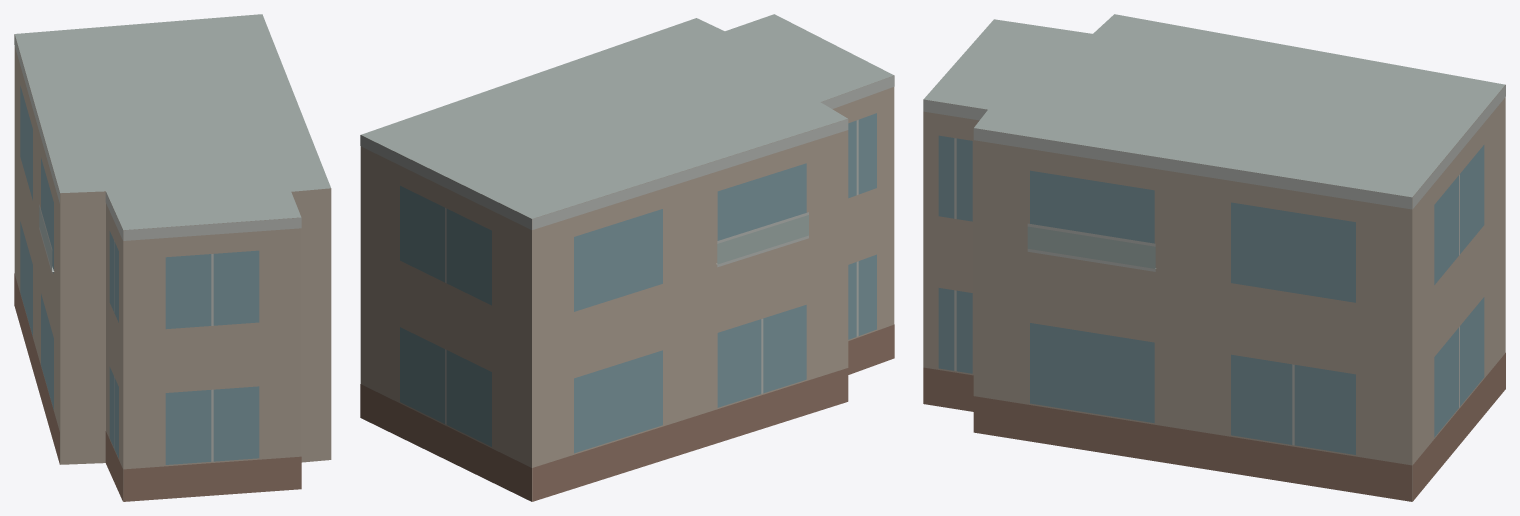
Rendered from survey-upis-32933104.glb.
3 views of the same model, side by side, from view 1: azimuth 30°, elevation 25°; view 2: azimuth 150°, elevation 25°; view 3: azimuth 270°, elevation 25° (orthographic). The views are drawn at different scales.
Parts seen in each view (by area): view 1: survey-upis-32933104.tmp; view 2: survey-upis-32933104.tmp; view 3: survey-upis-32933104.tmp.
Boxes of the visible parts, x1,y1,x2,y2 form: survey-upis-32933104.tmp: (14, 14, 331, 501); survey-upis-32933104.tmp: (360, 14, 894, 501); survey-upis-32933104.tmp: (923, 14, 1505, 501).
Size of the model in its own units: 7.89 by 6.1 by 10.58.
